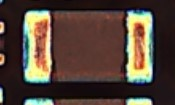COMP: (17, 7, 157, 89)
GAP: (23, 51, 152, 105), (1, 21, 43, 64)
